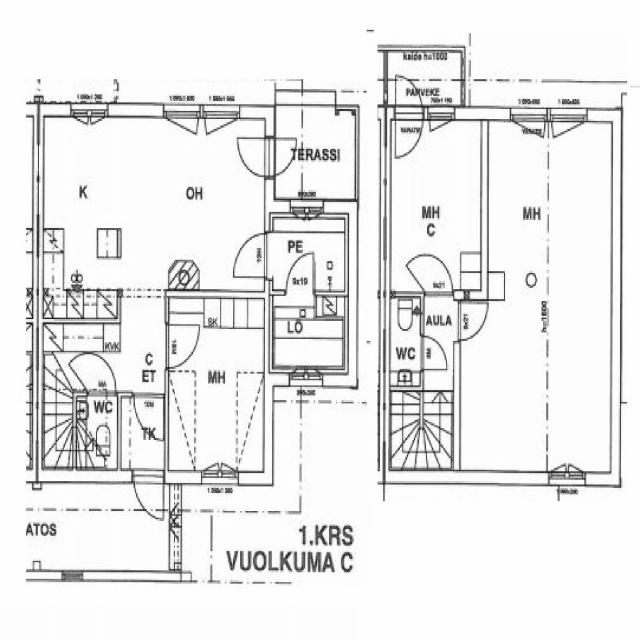door: (232, 234, 273, 278), (234, 136, 276, 178), (264, 136, 306, 178), (165, 325, 202, 369), (134, 472, 163, 526), (396, 108, 424, 162), (396, 69, 424, 122), (134, 392, 164, 440), (453, 302, 486, 340), (88, 354, 116, 398), (286, 251, 313, 296), (426, 252, 452, 296), (420, 336, 448, 368)
